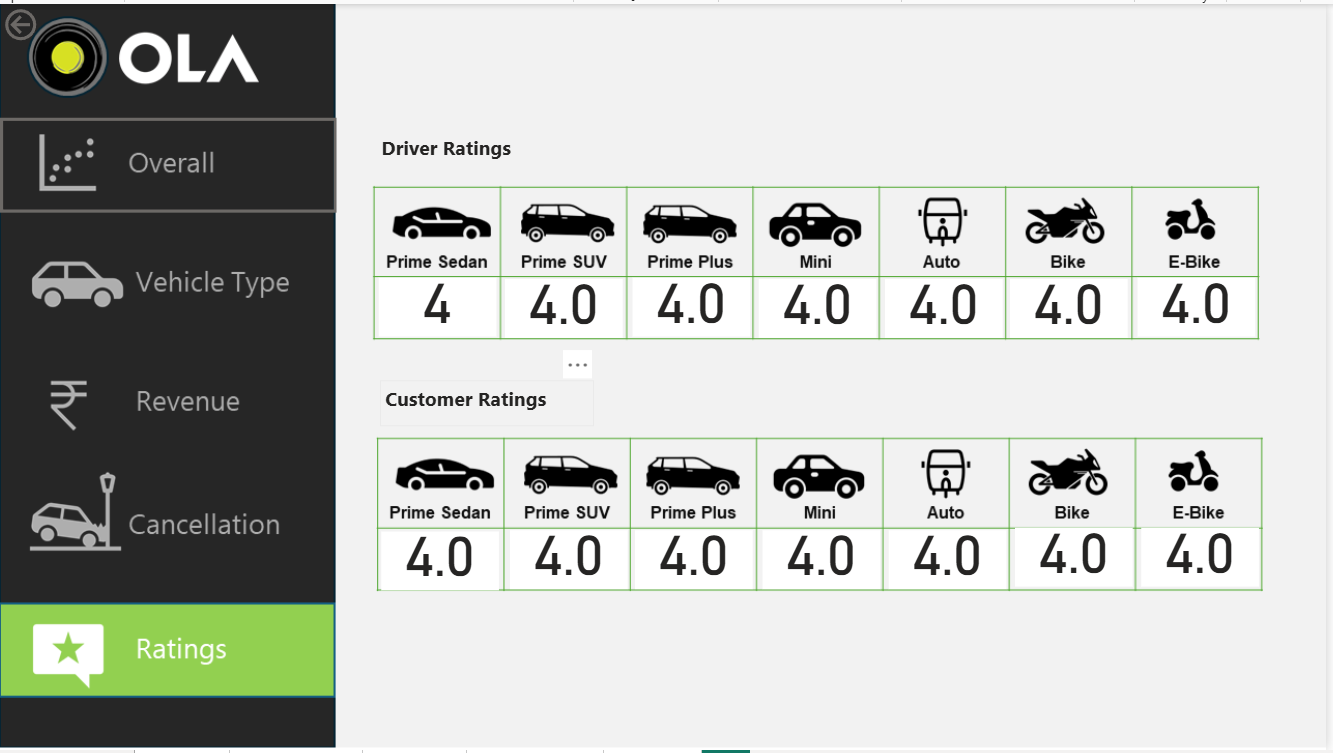

The page's visual inventory and layout, read from the dashboard file:
{"tool":"powerbi","page":{"name":"ratings","canvas":[1280,720],"ordinal":4},"visuals":[{"type":"actionButton","box":[0,450.3,325.2,91.6],"z":0},{"type":"actionButton","box":[0,345.8,325.2,91.6],"z":1000},{"type":"actionButton","box":[0,215.5,325.2,91.6],"z":2000},{"type":"actionButton","box":[0,109.7,325.2,91.6],"z":3000},{"type":"card","fields":{"Values":["Median(July.Driver_Ratings)"]},"box":[365.7,263.6,113.4,56.7],"z":4000},{"type":"card","fields":{"Values":["Median(July.Customer_Rating)"]},"box":[487.6,265,113.4,56.7],"z":5000},{"type":"card","fields":{"Values":["Avg(July.Driver_Ratings)"]},"box":[610.9,263.6,113.4,56.7],"z":6000},{"type":"card","fields":{"Values":["Avg(July.Driver_Ratings)"]},"box":[732.8,265,113.4,56.7],"z":7000},{"type":"card","fields":{"Values":["Avg(July.Driver_Ratings)"]},"box":[854.6,265,113.4,56.7],"z":8000},{"type":"card","fields":{"Values":["Avg(July.Driver_Ratings)"]},"box":[975.1,265,113.4,56.7],"z":9000},{"type":"card","fields":{"Values":["Avg(July.Driver_Ratings)"]},"box":[1098.4,263.6,113.4,56.7],"z":10000},{"type":"card","fields":{"Values":["Avg(July.Driver_Ratings)"]},"box":[979.4,506,113.4,56.7],"z":11000},{"type":"card","fields":{"Values":["Avg(July.Customer_Rating)"]},"box":[1101.3,506,113.4,56.7],"z":12000},{"type":"card","fields":{"Values":["Avg(July.Customer_Rating)"]},"box":[857.5,507.4,113.4,56.7],"z":13000},{"type":"card","fields":{"Values":["Avg(July.Customer_Rating)"]},"box":[735.6,507.4,113.4,56.7],"z":14000},{"type":"card","fields":{"Values":["Avg(July.Customer_Rating)"]},"box":[612.3,507.4,113.4,56.7],"z":15000},{"type":"card","fields":{"Values":["Avg(July.Driver_Ratings)"]},"box":[491.8,507.4,113.4,56.7],"z":16000},{"type":"card","fields":{"Values":["Avg(July.Driver_Ratings)"]},"box":[368.5,508.8,113.4,56.7],"z":17000},{"type":"actionButton","box":[0,0,100,40],"z":18000},{"type":"textbox","box":[362.8,120.9,149.5,45.4],"z":19000},{"type":"textbox","box":[366.2,362.8,206.6,45.4],"z":20000}]}

Visuals, with their boxes on the page's 1280x720 design canvas (x1, y1, x2, y2). These are canvas units, not pixel positions in the 1333x753 screenshot, which may show the page scaled, cropped or inside an application window:
actionButton: <box>0,450,325,542</box>
actionButton: <box>0,346,325,437</box>
actionButton: <box>0,216,325,307</box>
actionButton: <box>0,110,325,201</box>
card - Median(July.Driver_Ratings): <box>366,264,479,320</box>
card - Median(July.Customer_Rating): <box>488,265,601,322</box>
card - Avg(July.Driver_Ratings): <box>611,264,724,320</box>
card - Avg(July.Driver_Ratings): <box>733,265,846,322</box>
card - Avg(July.Driver_Ratings): <box>855,265,968,322</box>
card - Avg(July.Driver_Ratings): <box>975,265,1088,322</box>
card - Avg(July.Driver_Ratings): <box>1098,264,1212,320</box>
card - Avg(July.Driver_Ratings): <box>979,506,1093,563</box>
card - Avg(July.Customer_Rating): <box>1101,506,1215,563</box>
card - Avg(July.Customer_Rating): <box>858,507,971,564</box>
card - Avg(July.Customer_Rating): <box>736,507,849,564</box>
card - Avg(July.Customer_Rating): <box>612,507,726,564</box>
card - Avg(July.Driver_Ratings): <box>492,507,605,564</box>
card - Avg(July.Driver_Ratings): <box>368,509,482,566</box>
actionButton: <box>0,0,100,40</box>
textbox: <box>363,121,512,166</box>
textbox: <box>366,363,573,408</box>
